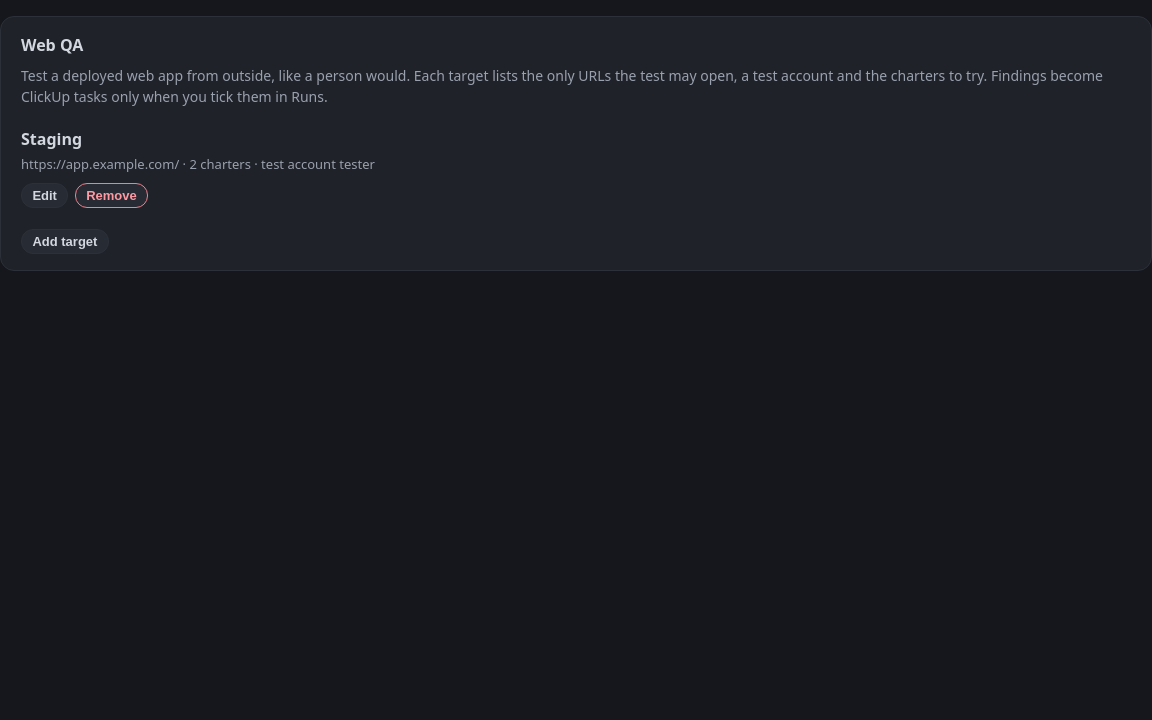
Test: WebQaTargets › asks before removing and says the charters go too
The image size is (1152, 720).
Later steps or results of the test are not shown.
Click the button "Remove": x=111, y=195 75,182 -> 148,208
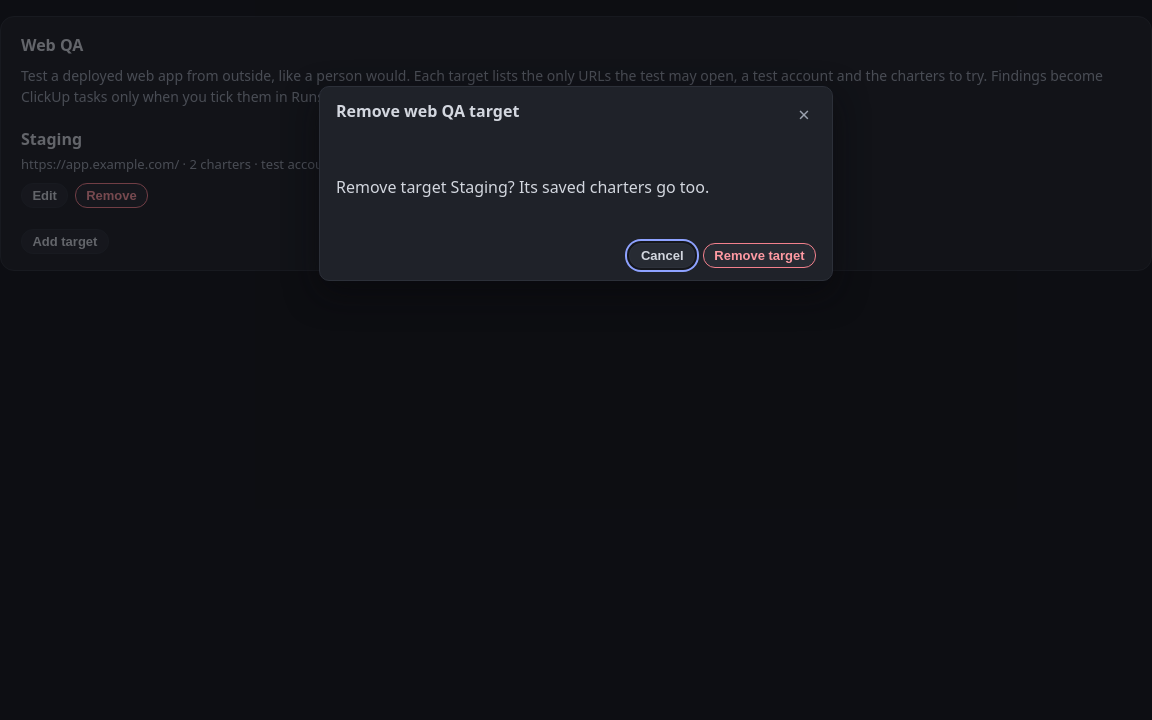
Check: the text "Remove target Staging? Its saved charters go too." is shown, box 336,176 -> 709,198
